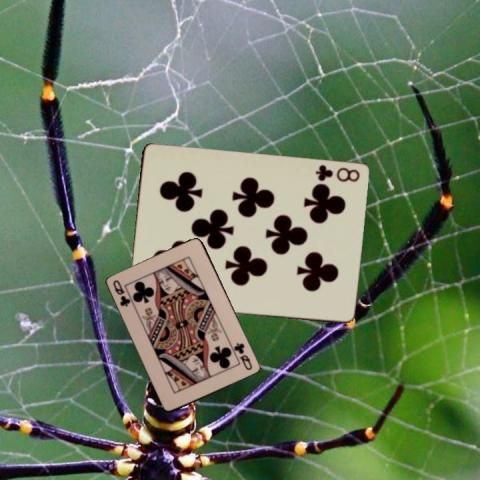8c: (312, 162, 361, 183)
Qc: (231, 339, 254, 372), (110, 277, 132, 308)
